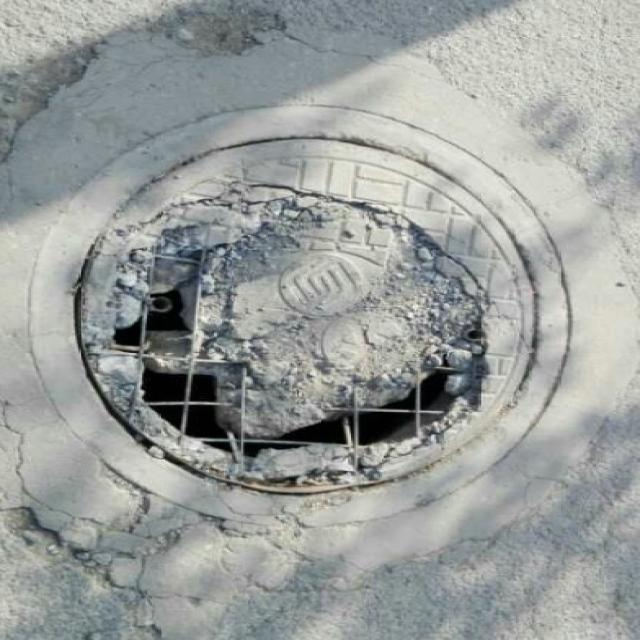Broken: (39, 96, 600, 519)
